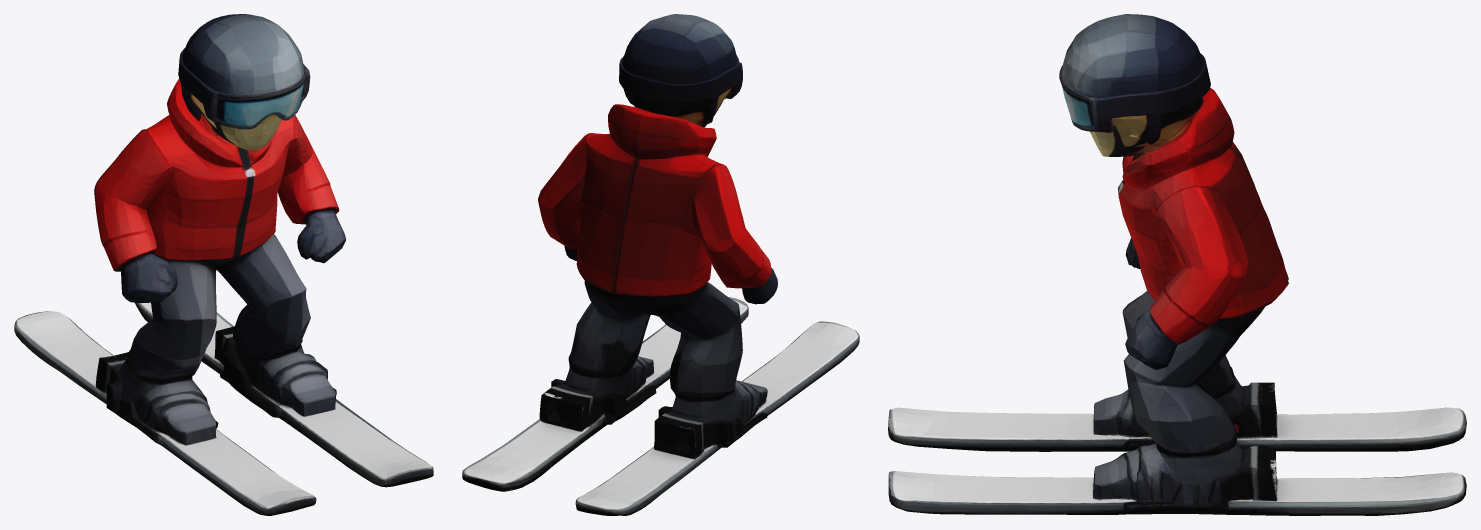
Rendered from PlayerGLB.glb.
3 renders of one model, left to right at view 1: azimuth 30°, elevation 25°; view 2: azimuth 150°, elevation 25°; view 3: azimuth 270°, elevation 25°, orthographic. The views are drawn at different scales.
Visible parts, largest first — view 1: world; view 2: world; view 3: world.
Boxes of the visible parts, x1,y1,x2,y2 form: world: (14,14,433,515); world: (462,14,859,515); world: (888,14,1466,515).
Bounding box in the file's own units: 0.487 × 0.8541 × 0.9779.
1 material, 1 textured.
